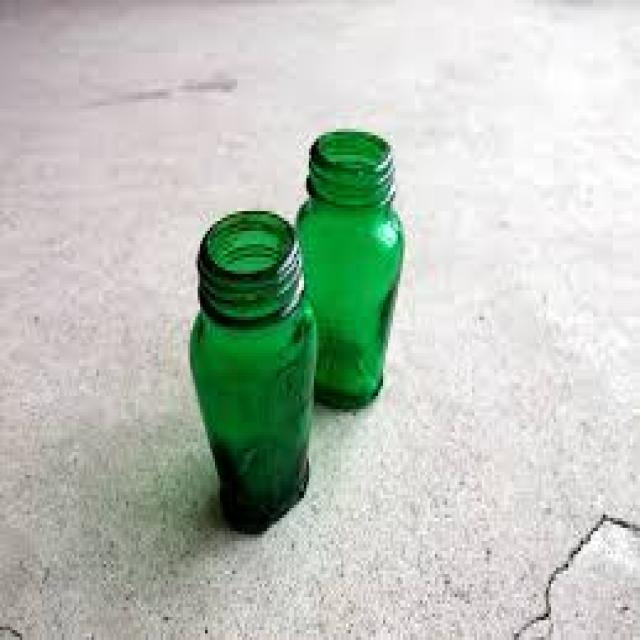Glass-Non-Biodegradable but Recyclable-: (182, 209, 323, 538)
